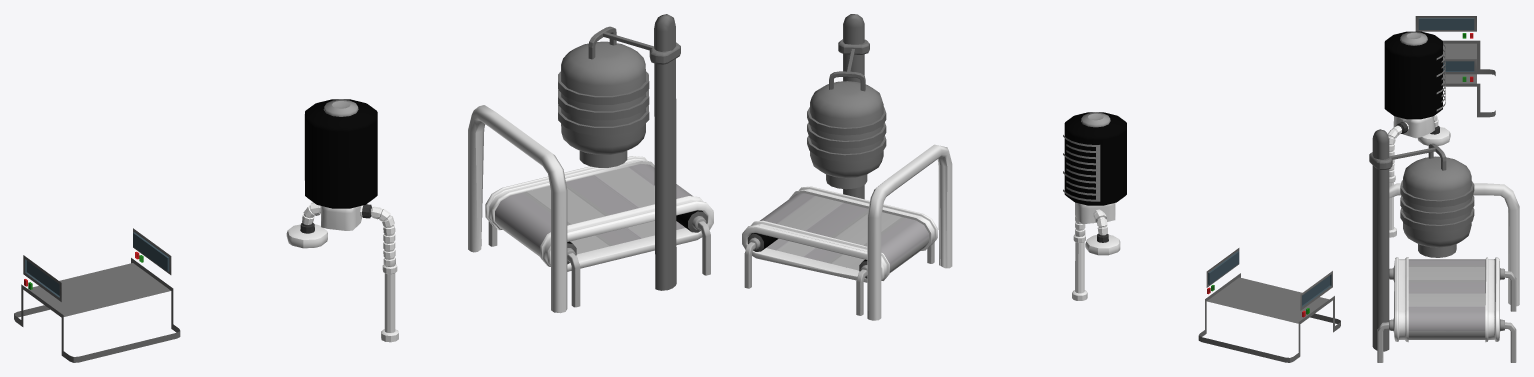
File: Tennis Machine.fbx
3 renders of one model, left to right at view 1: azimuth 30°, elevation 25°; view 2: azimuth 150°, elevation 25°; view 3: azimuth 270°, elevation 25°, orthographic. The views are drawn at different scales.
Parts seen in each view (by area): view 1: Ball COntainer, Conveyor_Belt006, Line Box, Fuel_Tank, Ball Dropper, Laser_Frame, Conveyor_Belt_Frames006, Solution_Slot_Pipe_02, Conveyor_Part_016, Conveyor_Part_017, Fuel_Tank_Part_02; view 2: Ball COntainer, Conveyor_Belt006, Line Box, Laser_Frame, Conveyor_Belt_Frames006, Fuel_Tank, Solution_Slot_Pipe_02, Ball Dropper, Fuel_Tank_Part_02, Conveyor_Part_016, Conveyor_Part_017; view 3: Conveyor_Belt006, Ball COntainer, Fuel_Tank, Ball Dropper, Line Box, Conveyor_Belt_Frames006, Laser_Frame, Solution_Slot_Pipe_02, Conveyor_Part_016, Fuel_Tank_Part_02, Conveyor_Part_017.
Part boxes in pixels (box(x1,y1,x2,y2)): Ball COntainer: box(558, 41, 649, 167); Conveyor_Belt006: box(495, 164, 692, 256); Line Box: box(14, 228, 180, 362); Fuel_Tank: box(305, 99, 377, 208); Ball Dropper: box(588, 14, 680, 290); Laser_Frame: box(468, 105, 567, 313); Conveyor_Belt_Frames006: box(485, 156, 713, 271); Solution_Slot_Pipe_02: box(286, 202, 398, 342); Conveyor_Part_016: box(676, 210, 710, 275); Conveyor_Part_017: box(488, 221, 580, 307); Fuel_Tank_Part_02: box(304, 99, 358, 180); Ball COntainer: box(807, 81, 886, 189); Conveyor_Belt006: box(760, 193, 928, 272); Line Box: box(1198, 248, 1340, 362); Laser_Frame: box(867, 144, 952, 320); Conveyor_Belt_Frames006: box(742, 186, 937, 282); Fuel_Tank: box(1064, 112, 1126, 205); Solution_Slot_Pipe_02: box(1072, 202, 1120, 300); Ball Dropper: box(829, 14, 869, 199); Fuel_Tank_Part_02: box(1063, 112, 1110, 201); Conveyor_Part_016: box(744, 233, 778, 288); Conveyor_Part_017: box(856, 242, 934, 315); Conveyor_Belt006: box(1408, 259, 1485, 339); Ball COntainer: box(1400, 156, 1474, 257); Fuel_Tank: box(1384, 31, 1442, 119); Ball Dropper: box(1369, 129, 1446, 351); Line Box: box(1415, 16, 1495, 117); Conveyor_Belt_Frames006: box(1394, 257, 1499, 342); Laser_Frame: box(1389, 183, 1519, 306); Solution_Slot_Pipe_02: box(1387, 115, 1450, 237); Conveyor_Part_016: box(1377, 318, 1516, 362); Fuel_Tank_Part_02: box(1400, 32, 1445, 111); Conveyor_Part_017: box(1389, 266, 1516, 311).
Bounding box in the file's own units: 414 × 166 × 105.
Materials: 5 (3 with a texture image).
